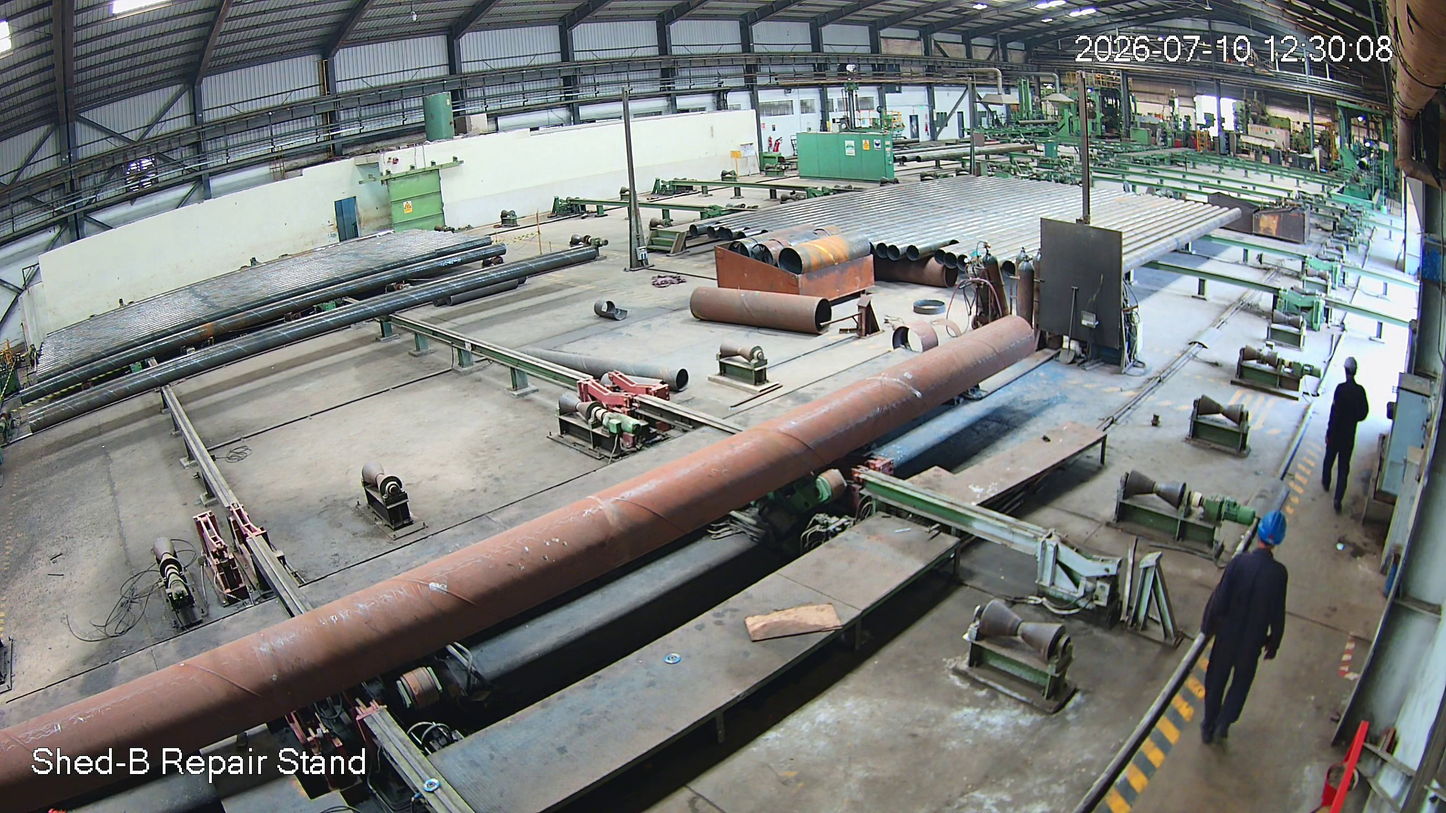Helmet: (1248, 503, 1303, 571), (1340, 348, 1388, 400)
Person: (1191, 509, 1300, 751), (1323, 358, 1382, 525)
